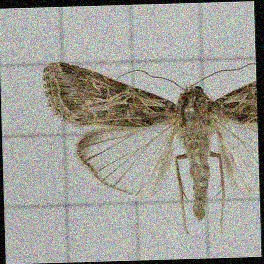Spodoptera litura: (43, 57, 259, 236)
